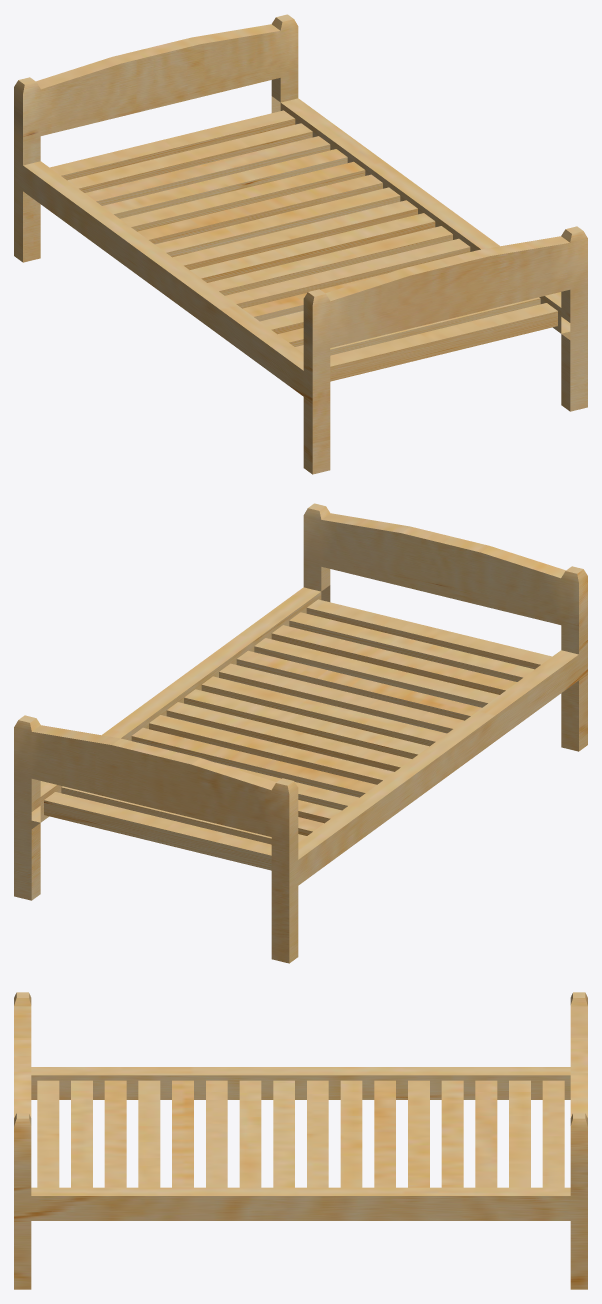
Rendered from voodiraam.fbx.
The picture shows the model from 3 angles, top to bottom: view 1: azimuth 30°, elevation 25°; view 2: azimuth 150°, elevation 25°; view 3: azimuth 270°, elevation 25°; orthographic projection. The views are drawn at different scales.
Visible parts, largest first — view 1: voodi; view 2: voodi; view 3: voodi.
Part boxes in pixels (<box>): voodi: <box>14,14,587,474</box>; voodi: <box>14,503,587,963</box>; voodi: <box>14,992,587,1289</box>.
Bounding box in the file's own units: 1252 × 765 × 2351.
